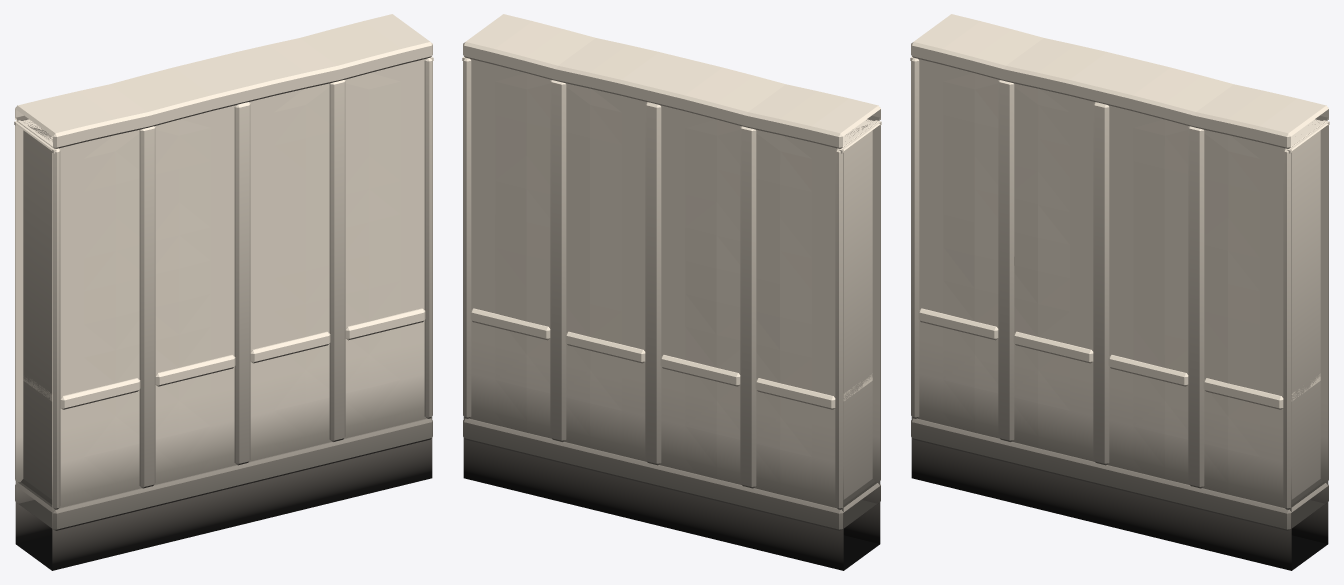
File: SM_VKI_Wall_Timber_Plain_300_Full.fbx
The picture shows the model from 3 angles, left to right: view 1: azimuth 30°, elevation 25°; view 2: azimuth 150°, elevation 25°; view 3: azimuth 330°, elevation 25°; orthographic projection.
Parts seen in each view (by area): view 1: SM_VKI_Wall_Timber_Plain_300_Full.001; view 2: SM_VKI_Wall_Timber_Plain_300_Full.001; view 3: SM_VKI_Wall_Timber_Plain_300_Full.001.
Boxes of the visible parts, <box> form: SM_VKI_Wall_Timber_Plain_300_Full.001: <box>14,14,433,570</box>; SM_VKI_Wall_Timber_Plain_300_Full.001: <box>462,14,881,570</box>; SM_VKI_Wall_Timber_Plain_300_Full.001: <box>910,14,1329,570</box>.
Size of the model in its own units: 3 by 3.3 by 0.56.
